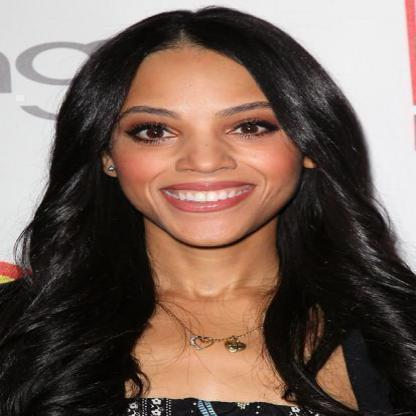long-hair: (2, 252, 408, 315)
